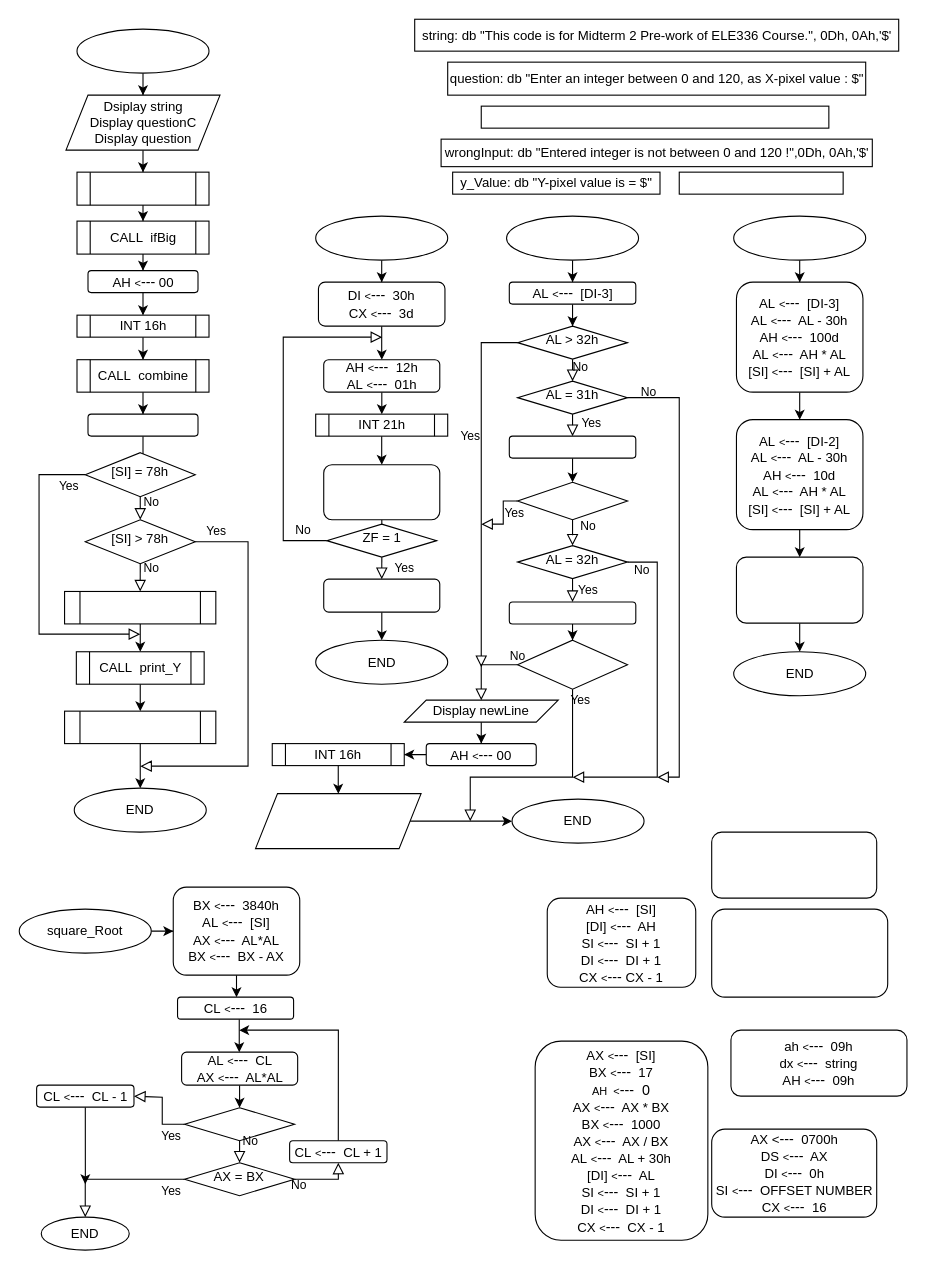
The diagram is 926 pixels wide and 1269 high, and some of its shapes have lost their labels. The box of each missing label's shape, as (x1, y1, x2, y2) in pixels:
[DI] < --- AL DI < --- DI + 1 CX < --- CX - 1: (323, 464, 440, 520)
AL < --- [DI-1]: (508, 601, 636, 624)
AL < --- [DI-1] AL < --- AL - 30h [SI] < --- [SI] + AL: (735, 556, 863, 623)
AL < --- [DI-2]: (508, 435, 636, 458)
AL < --- AL + 30h [DI] < --- AL SI < --- SI + 1 DI < --- DI + 1 CX < --- CX - 1: (711, 908, 888, 997)
AL = 30h: (516, 639, 628, 689)
AL >= 33h: (516, 481, 628, 520)
AX > BX: (183, 1107, 295, 1141)
CALL all_Y_values: (63, 710, 216, 744)
CALL inputTaker: (76, 171, 209, 205)
CALL square_Root: (63, 590, 216, 624)
CL < --- 00: (87, 413, 198, 436)
combine: (733, 215, 866, 260)
DI < --- 10h SI < --- OFFSET NUMBER CX < --- 16: (711, 831, 877, 898)
Display newLine Display newLine Display wrongInput: (254, 793, 421, 849)
ifBig: (505, 215, 639, 260)
inputTaker: (315, 215, 448, 260)
newLine: db 0Dh, 0Ah,'$': (678, 171, 843, 194)
questionC: db "Please make it three digits!", 0Dh, 0Ah,'$': (480, 105, 829, 128)
SI < --- 50h [SI] < --- 0h: (323, 578, 440, 612)
START: (76, 28, 209, 73)
